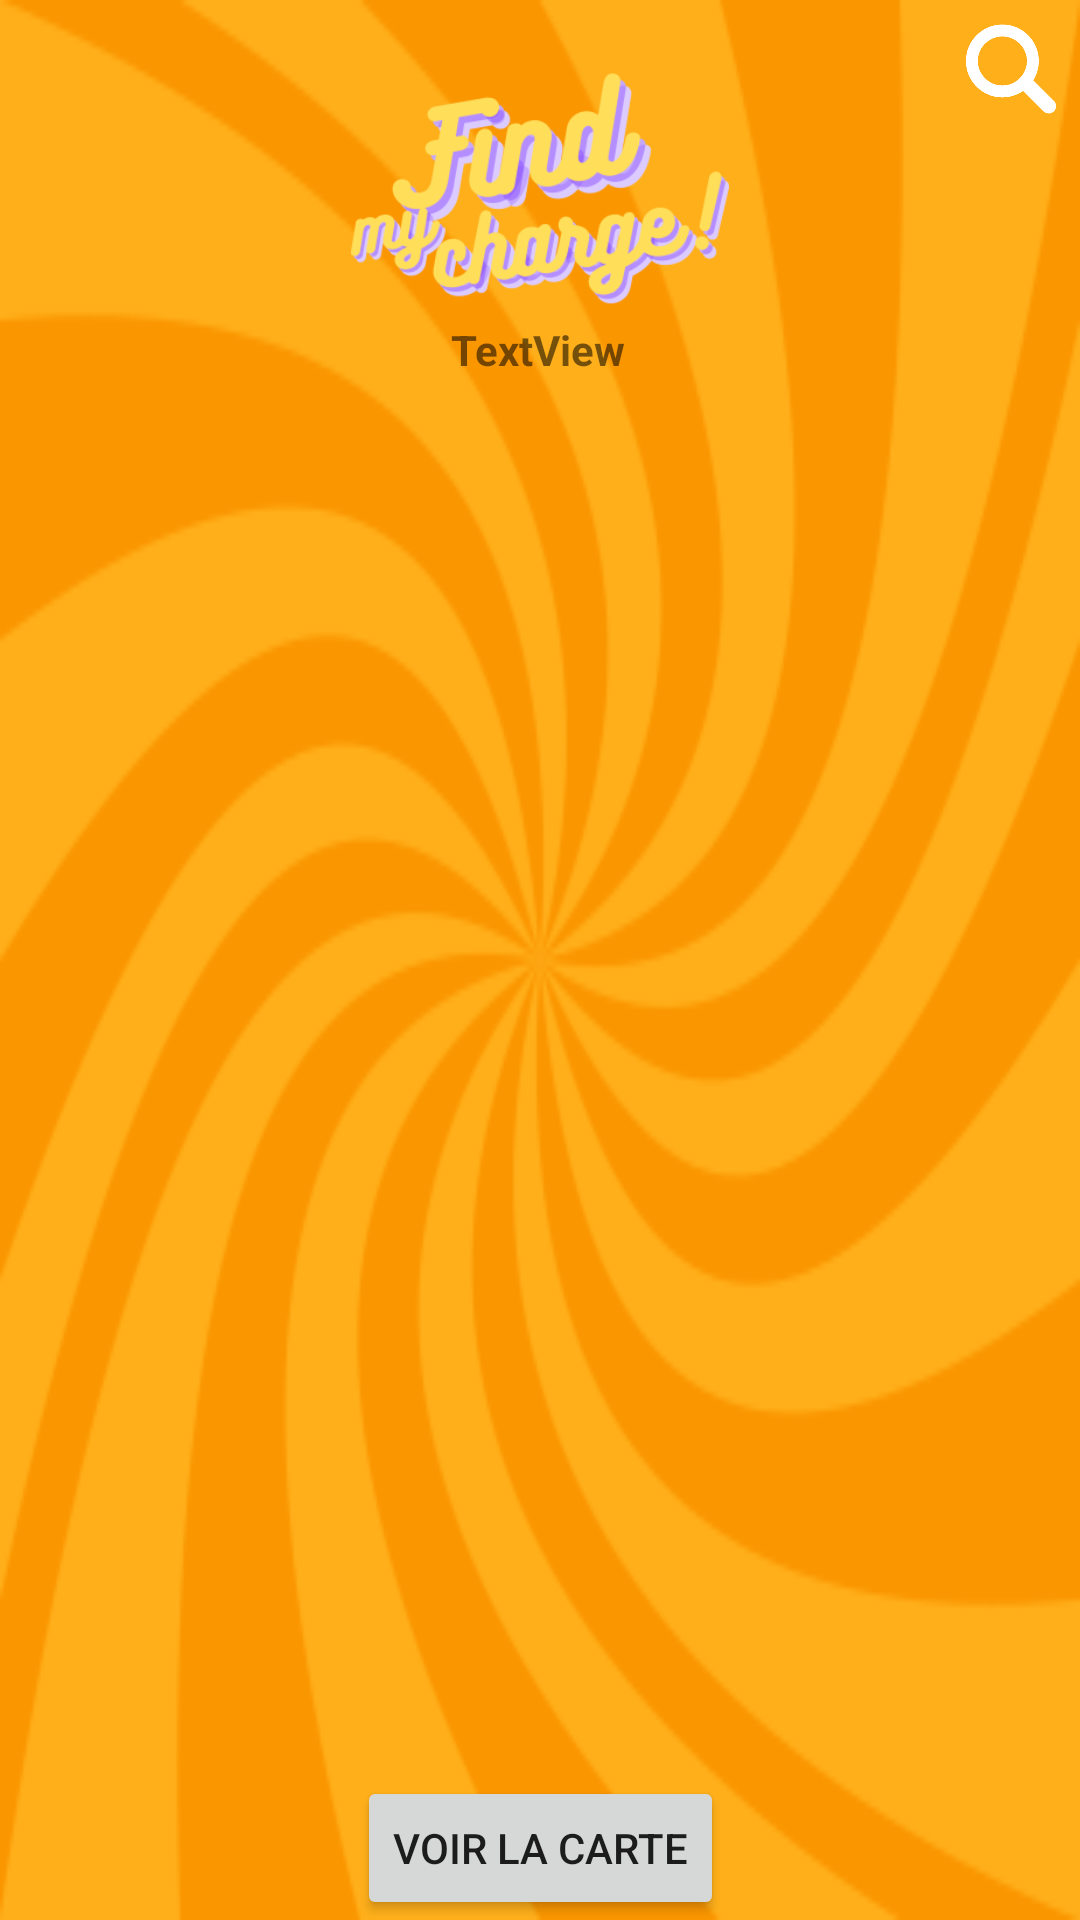

Where icons sit on this 1080w x 1920h app screen, as box(x1, y1, x2, y2):
search: box(966, 24, 1056, 114)
